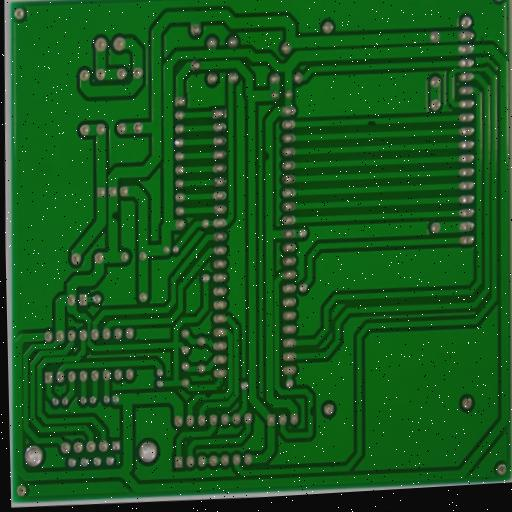mouse_bite: (109, 206, 120, 226), (364, 115, 380, 128), (263, 146, 273, 166), (203, 390, 216, 401), (307, 403, 315, 420)
